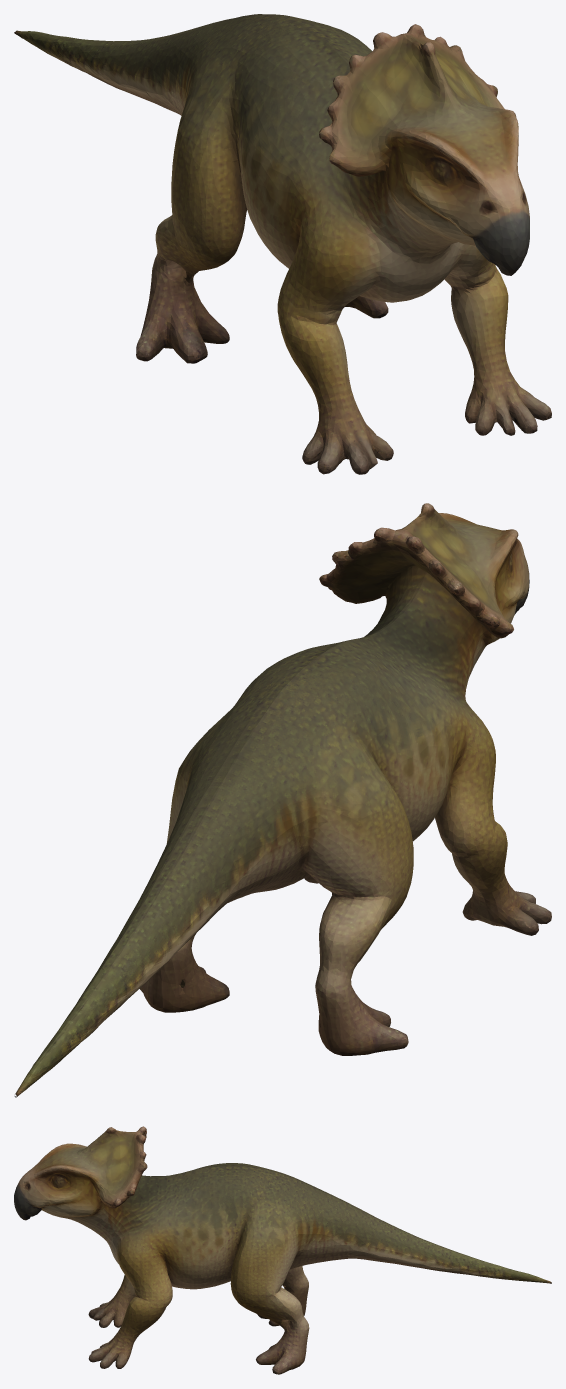
3 renders of one model, top to bottom at view 1: azimuth 30°, elevation 25°; view 2: azimuth 150°, elevation 25°; view 3: azimuth 270°, elevation 25°, orthographic. The views are drawn at different scales.
Parts seen in each view (by area): view 1: world; view 2: world; view 3: world.
Part boxes in pixels (left/top/right/bottom): world: left=14, top=14, right=551, bottom=474; world: left=14, top=503, right=551, bottom=1097; world: left=14, top=1126, right=551, bottom=1374.
Bounding box in the file's own units: 0.9336 × 1.32 × 3.
Materials: 1 (1 with a texture image).
